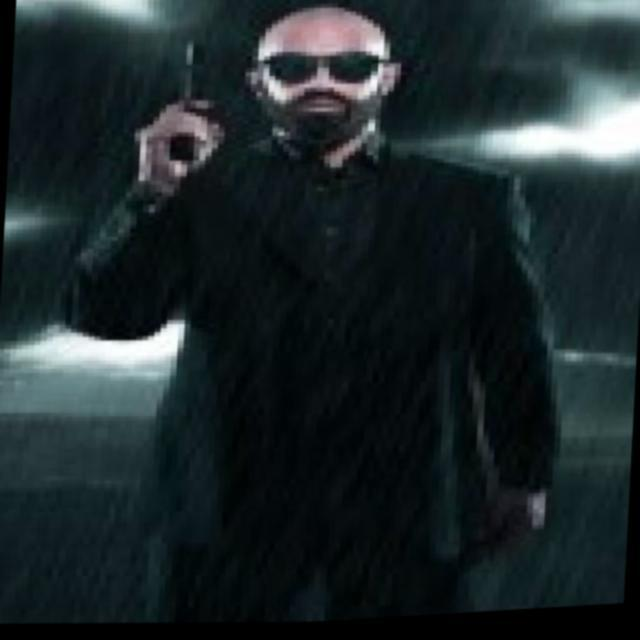weapon: (163, 38, 200, 164)
